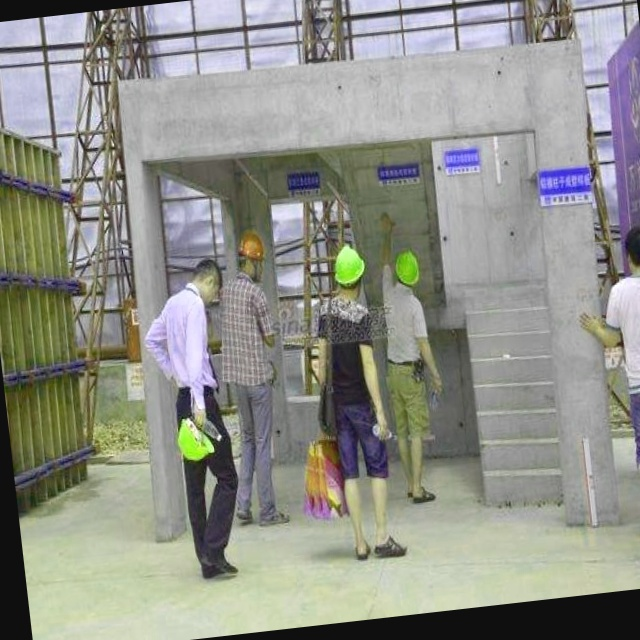Con_Casco: (330, 241, 368, 296)
Sin_Casco_Mascarrilla: (190, 255, 224, 305)
